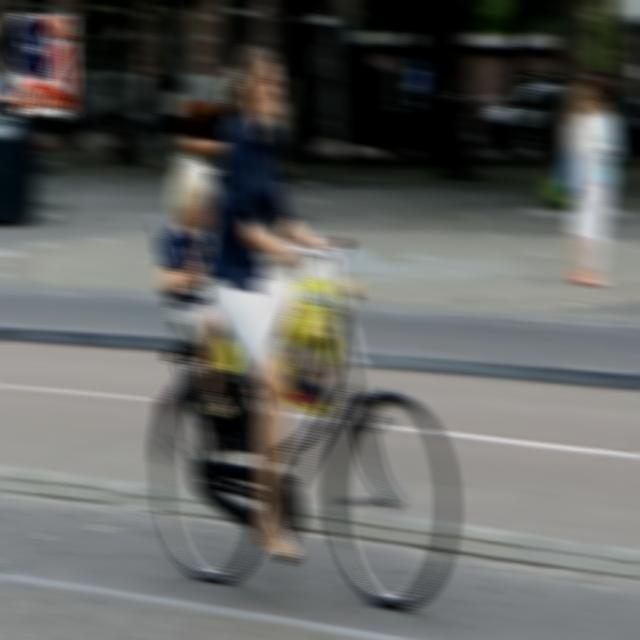Without Helmet: (233, 33, 287, 124), (167, 154, 215, 233)
